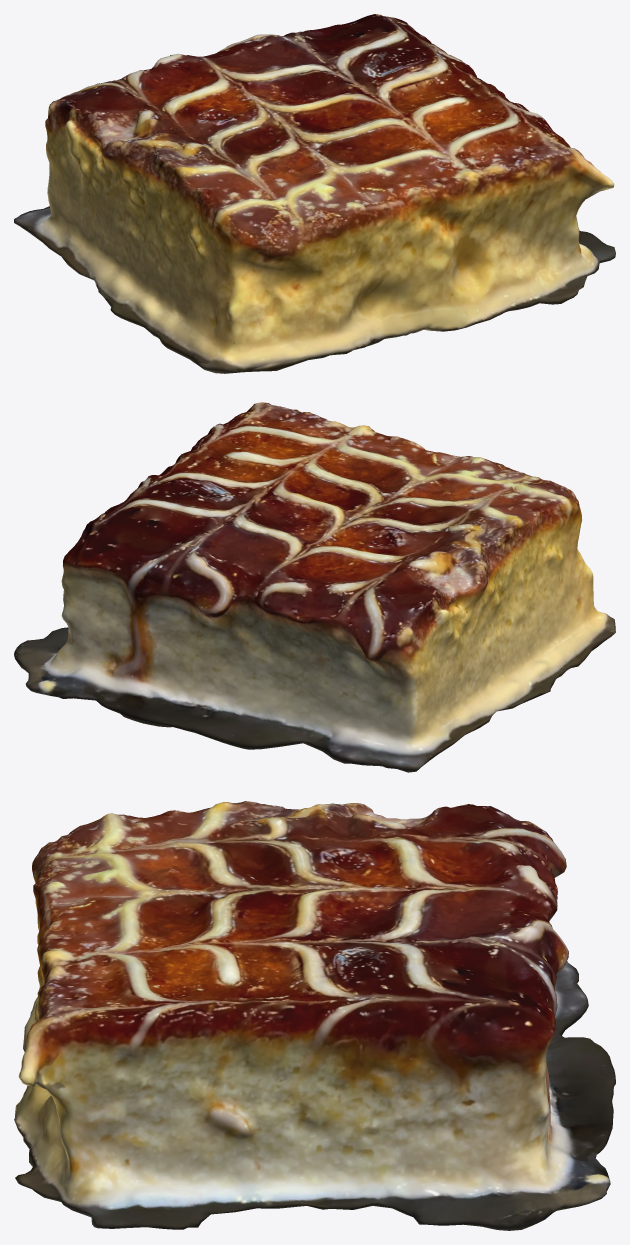
Rendered from trilice.glb.
3 renders of one model, top to bottom at view 1: azimuth 30°, elevation 25°; view 2: azimuth 150°, elevation 25°; view 3: azimuth 270°, elevation 25°, orthographic. The views are drawn at different scales.
Visible parts, largest first — view 1: ObjectCapture; view 2: ObjectCapture; view 3: ObjectCapture.
Boxes of the visible parts, <box> form: ObjectCapture: <box>14,14,615,373</box>; ObjectCapture: <box>14,402,615,772</box>; ObjectCapture: <box>14,801,615,1230</box>.
Bounding box in the file's own units: 0.1096 × 0.0394 × 0.1016.
1 material, 1 textured.
